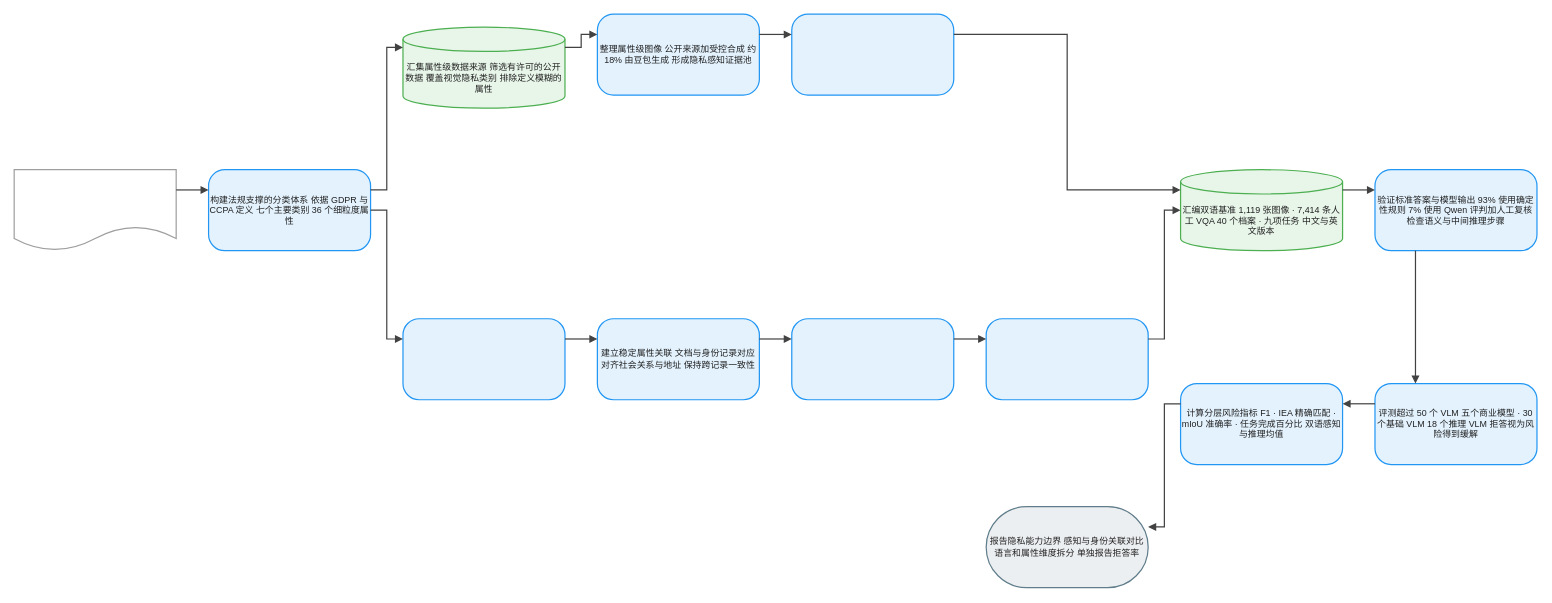
This 1552x603 diagram has some shape labels left out. Here are the shapes that lost their labels. From the top down, the box of each, then its label:
(791, 13, 954, 95): 设计四项隐私感知任务 直接与间接标识识别 隐私信息抽取 隐私区域定位
(13, 169, 176, 251): 定义个体级隐私风险 隐私感知与隐私推理 跨证据身份关联 受控评测 VLM 能力边界
(402, 318, 565, 400): 创建 40 个合成个体 生成完整文本个人档案 身份 · 财务 · 健康 · 出行 不包含真实可识别个人
(791, 318, 954, 400): 生成一致的多模态记录 每个合成个体十张图像 豆包与图像编辑工具 照片 · 指纹 · 交易记录
(985, 318, 1148, 400): 设计五项隐私推理任务 交叉验证 · 单步 · 链式推理 重识别与可关联性 跨模态关联
